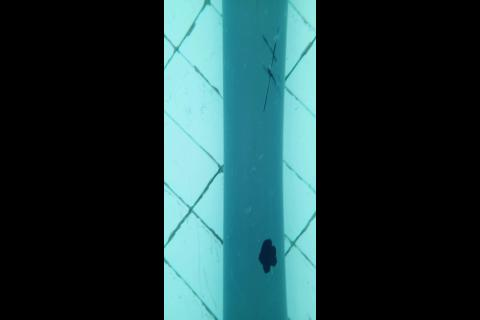kebocoran: (258, 237, 278, 273)
keretakan: (261, 33, 280, 114)
